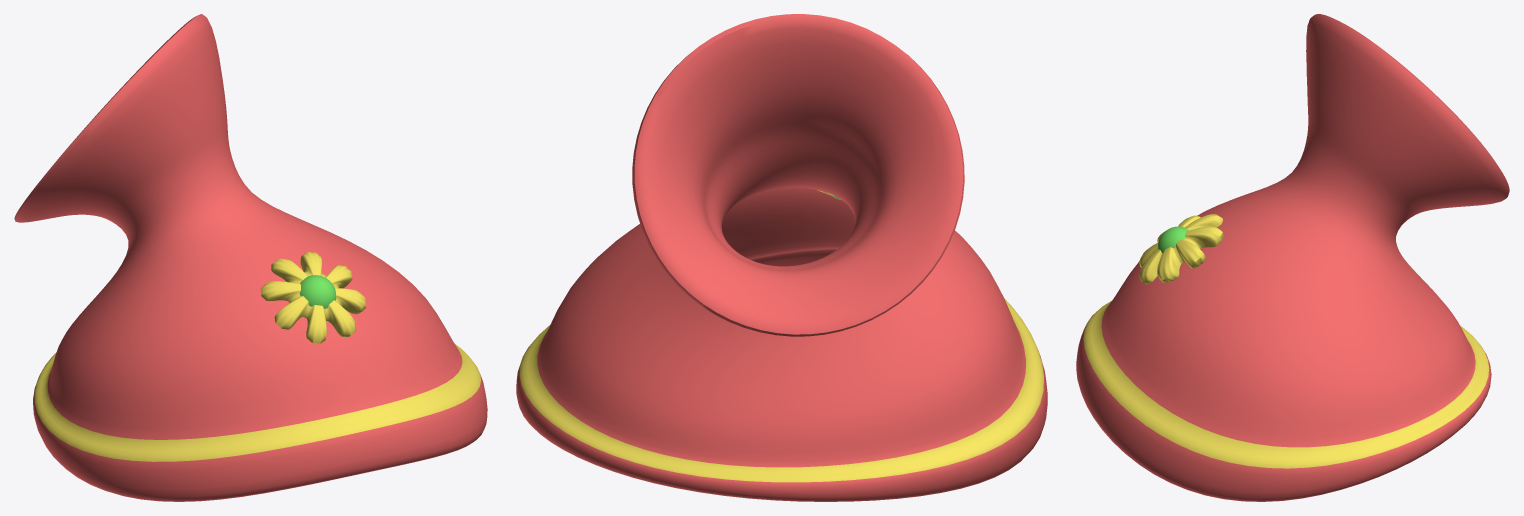
Rendered from Capulet.gltf.
3 views of the same model, side by side, from view 1: azimuth 30°, elevation 25°; view 2: azimuth 150°, elevation 25°; view 3: azimuth 270°, elevation 25° (orthographic). The views are drawn at different scales.
Parts seen in each view (by area): view 1: hat7-PBR.2, hat7-PBR.1 (×2), hat7-PBR; view 2: hat7-PBR.2, hat7-PBR.1; view 3: hat7-PBR.2, hat7-PBR.1 (×2), hat7-PBR.
Boxes of the visible parts, bbox=[...] form: hat7-PBR.2: bbox=[14, 14, 487, 501]; hat7-PBR.1 (×2): bbox=[34, 251, 481, 461]; hat7-PBR: bbox=[299, 275, 336, 308]; hat7-PBR.2: bbox=[516, 14, 1047, 501]; hat7-PBR.1: bbox=[519, 298, 1043, 482]; hat7-PBR.2: bbox=[1076, 14, 1509, 501]; hat7-PBR.1 (×2): bbox=[1083, 214, 1488, 468]; hat7-PBR: bbox=[1157, 226, 1188, 253].
Size of the model in its own units: 7.14 by 6.62 by 7.08.
